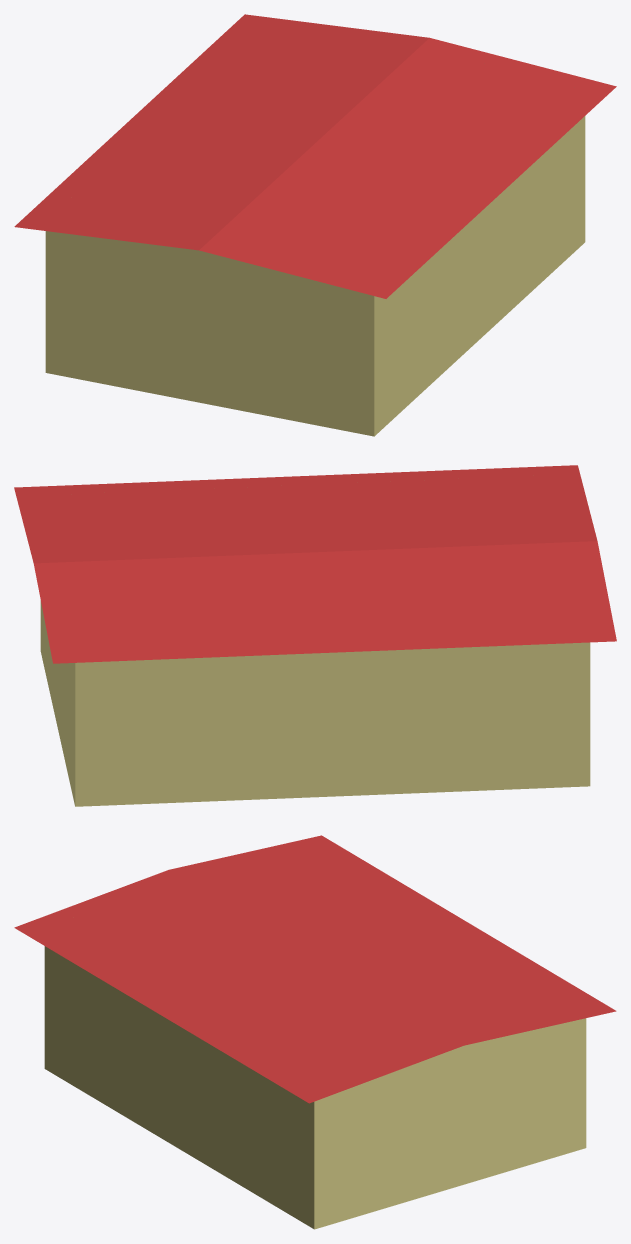
3 renders of one model, top to bottom at view 1: azimuth 30°, elevation 25°; view 2: azimuth 150°, elevation 25°; view 3: azimuth 270°, elevation 25°, orthographic. The views are drawn at different scales.
Size of the model in its own units: 43.15 by 41.01 by 11.29.
